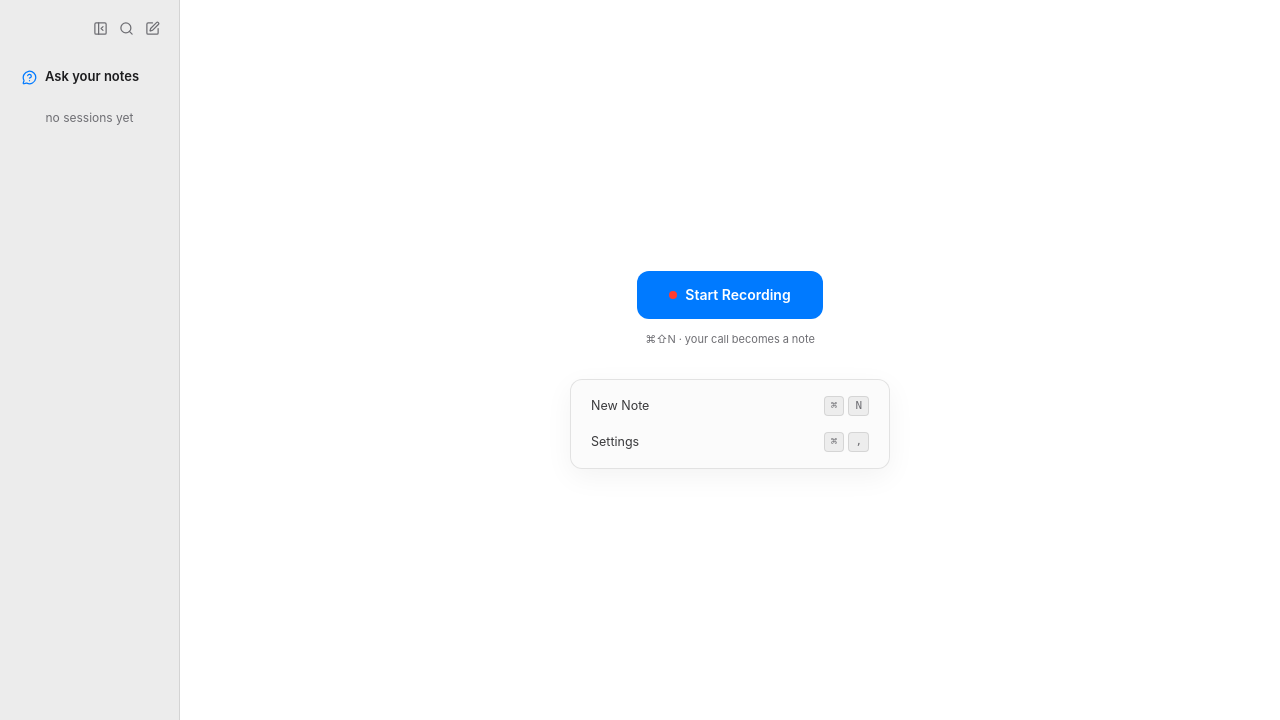
Test: App: hot-mic fix › leaves recording mode immediately while slow finalization stays in the background
The image size is (1280, 720).
Step 1. Click the button "Start Recording" → (730,295), box top-left (637, 271), bottom-right (823, 319)
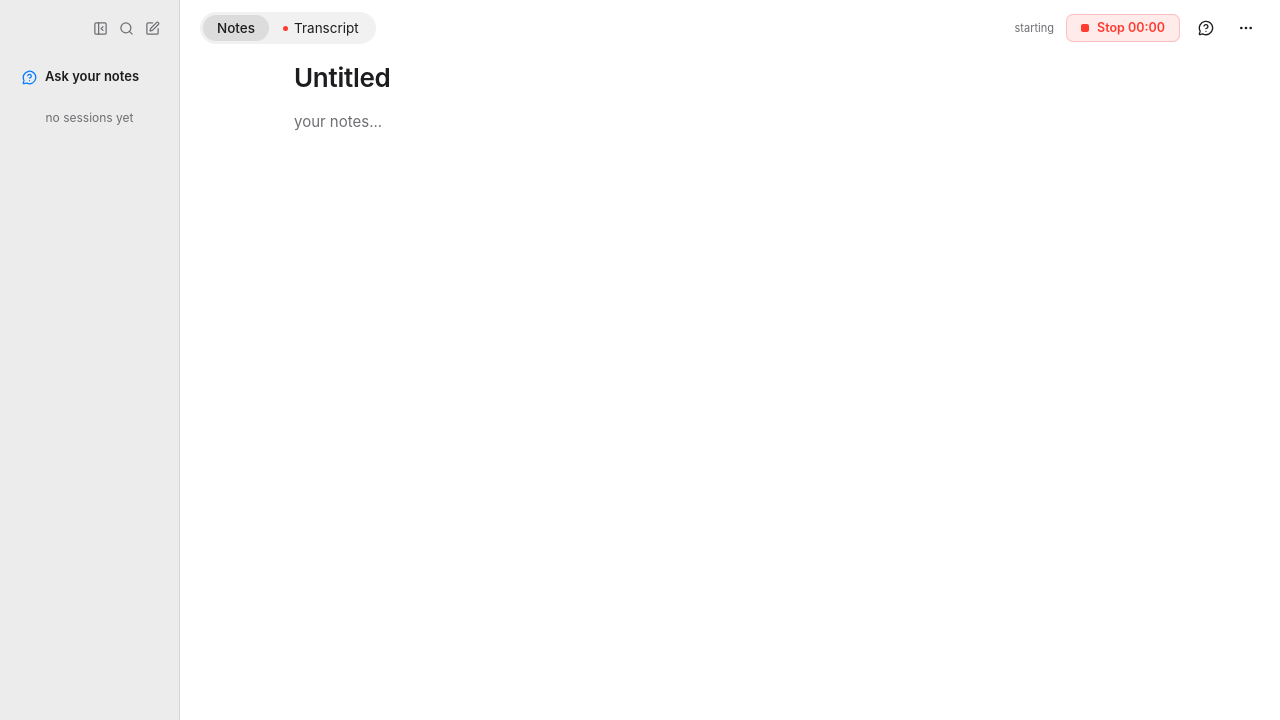
Step 2. Click the button "Stop 00:00" → (1123,28), box top-left (1066, 14), bottom-right (1180, 42)
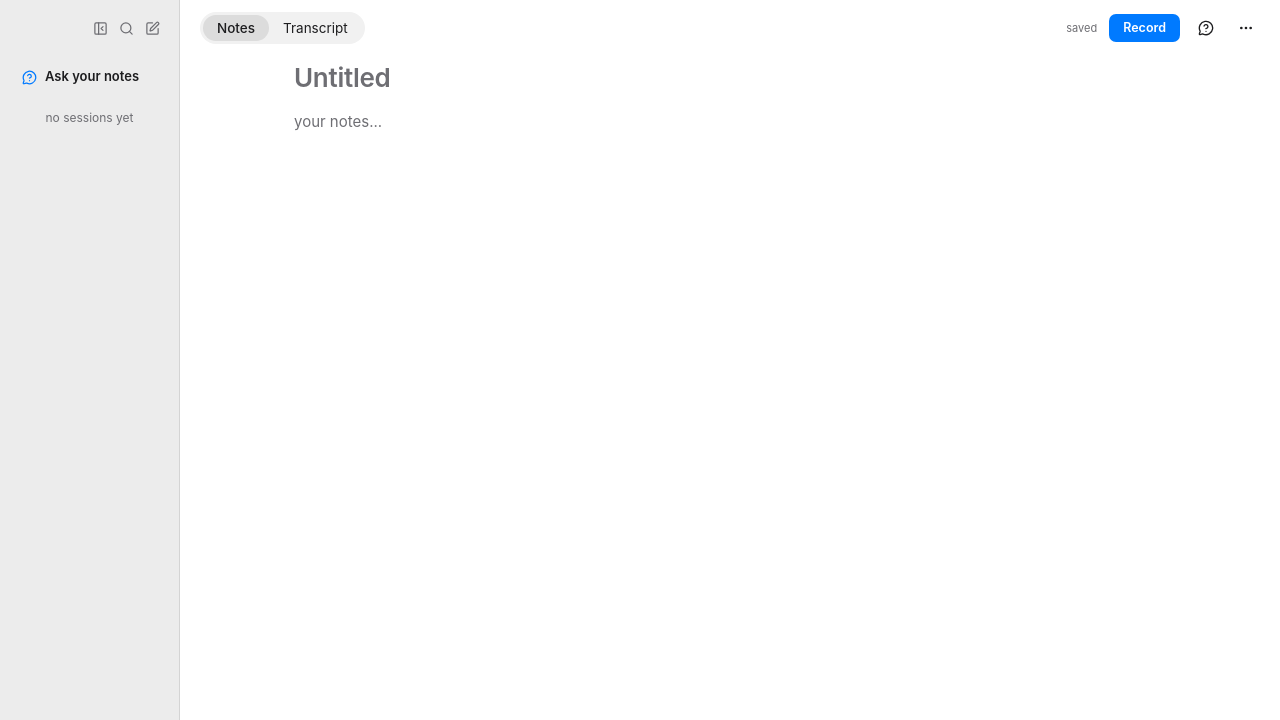
Expected: the button "Stop" is gone
Expected: the text "saved" is shown, top-left (1066, 20), bottom-right (1097, 36)
